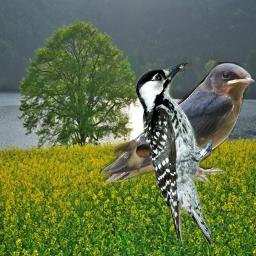Swallow: (99, 62, 256, 189), (112, 139, 153, 172)
Woodpecker: (135, 60, 212, 247)
